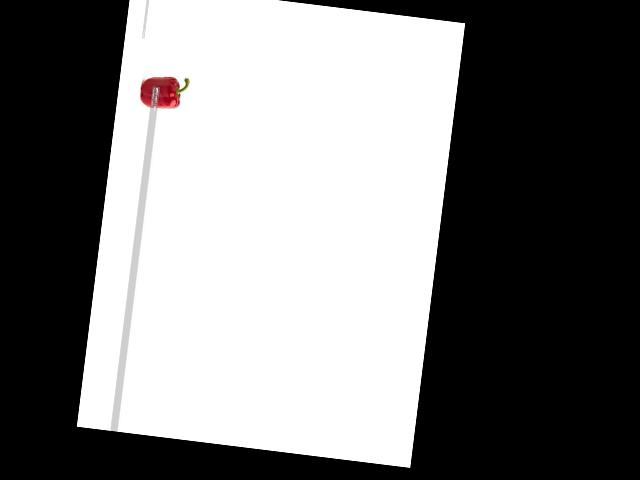bell_pepper: (139, 68, 192, 114)
